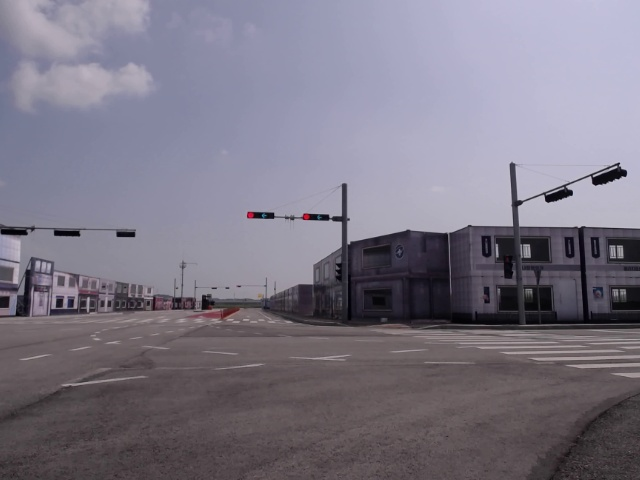left_green_4: (247, 212, 274, 218), (303, 214, 329, 220)
